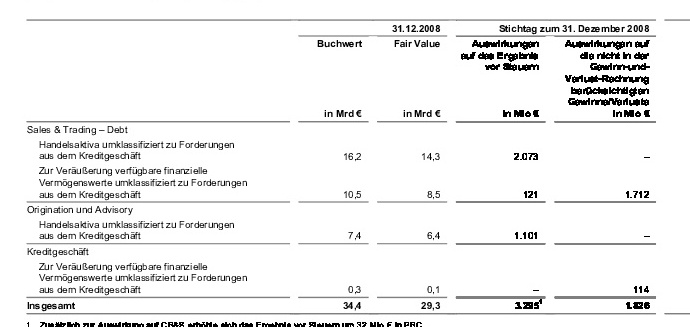table: (0, 0, 690, 327)
